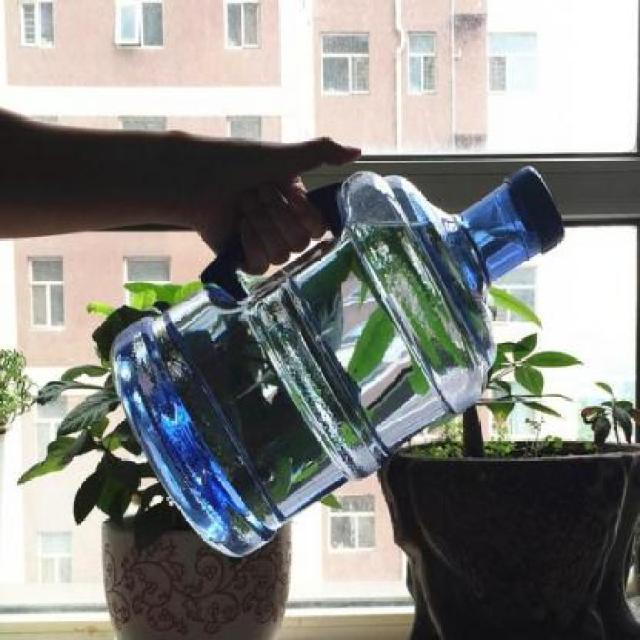coolerbottle: (105, 157, 572, 564)
